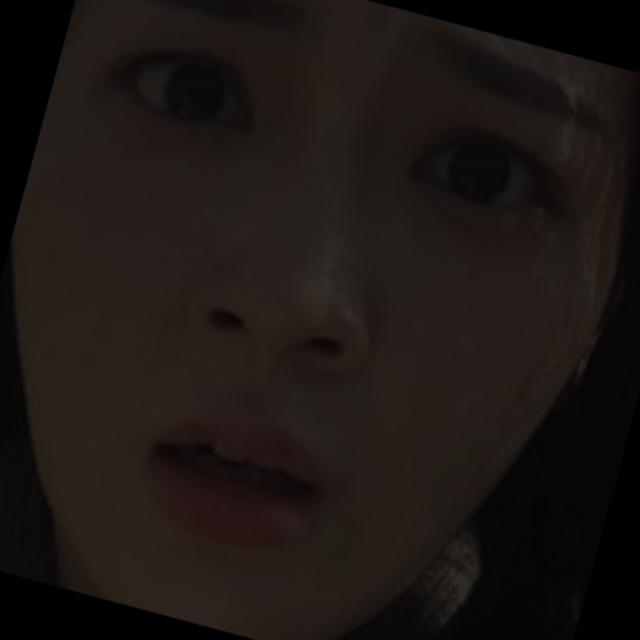Surprised: (41, 21, 640, 640)
